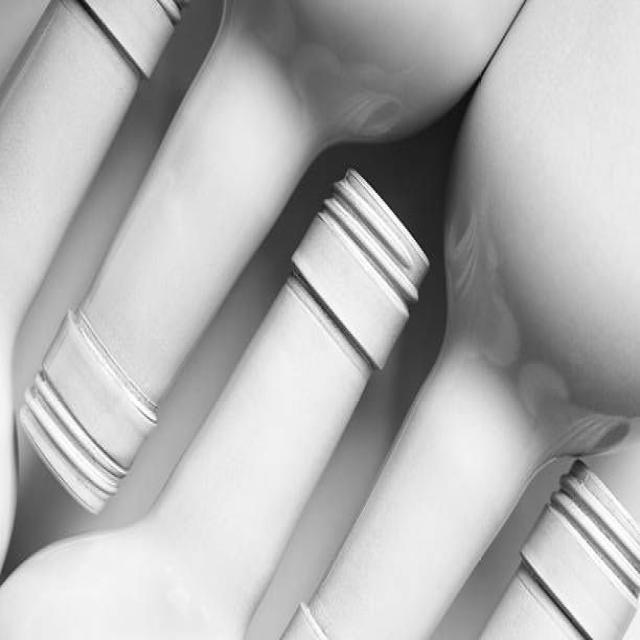electronic: (16, 0, 524, 518), (0, 163, 431, 637), (0, 0, 187, 577), (442, 0, 638, 420), (477, 456, 639, 638)
